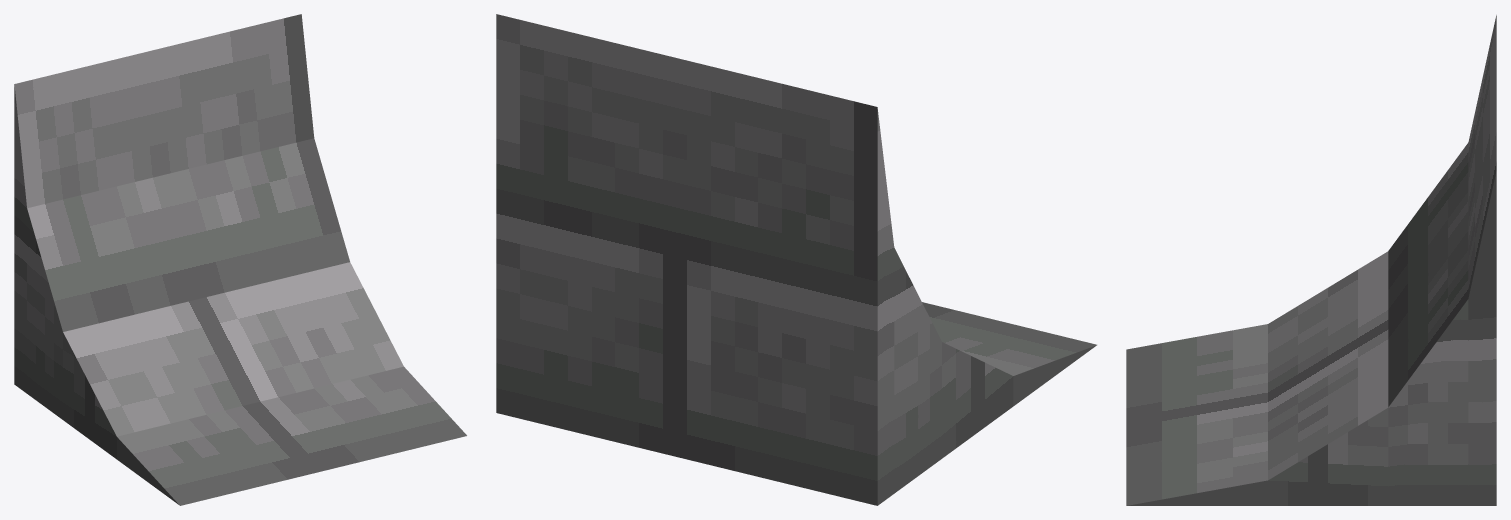
File: arch.gltf
3 views of the same model, side by side, from view 1: azimuth 30°, elevation 25°; view 2: azimuth 150°, elevation 25°; view 3: azimuth 270°, elevation 25° (orthographic). The views are drawn at different scales.
Visible parts, largest first — view 1: Plane.001; view 2: Plane.001; view 3: Plane.001.
Part boxes in pixels (x1,y1,x2,y2): Plane.001: (14,14,466,505); Plane.001: (496,14,1096,505); Plane.001: (1126,15,1496,505).
Bounding box in the file's own units: 1 × 1 × 1.
Materials: 1 (1 with a texture image).
